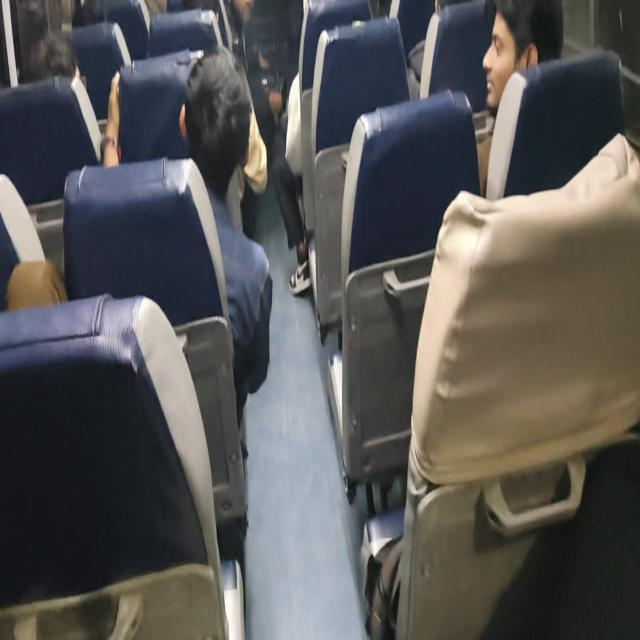person: (185, 59, 256, 156), (479, 8, 537, 91), (22, 36, 92, 102), (286, 0, 324, 56)
